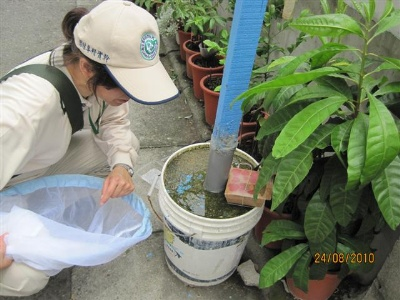bucket: (160, 141, 266, 286)
